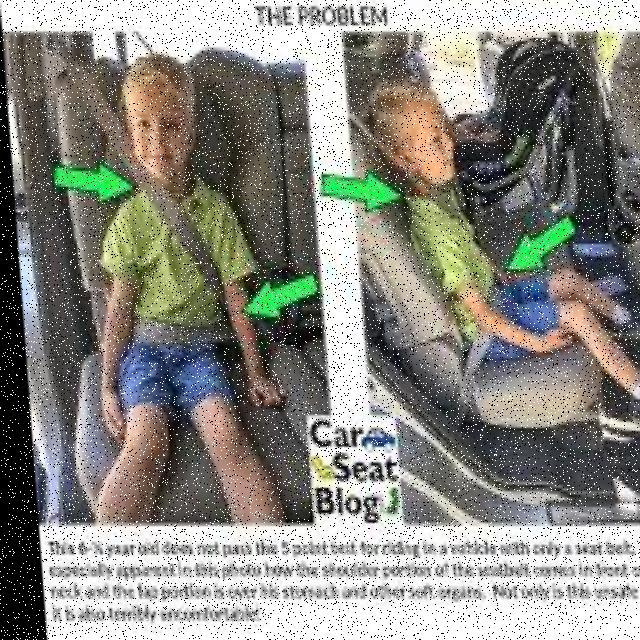seatbelt: (96, 162, 250, 376)
